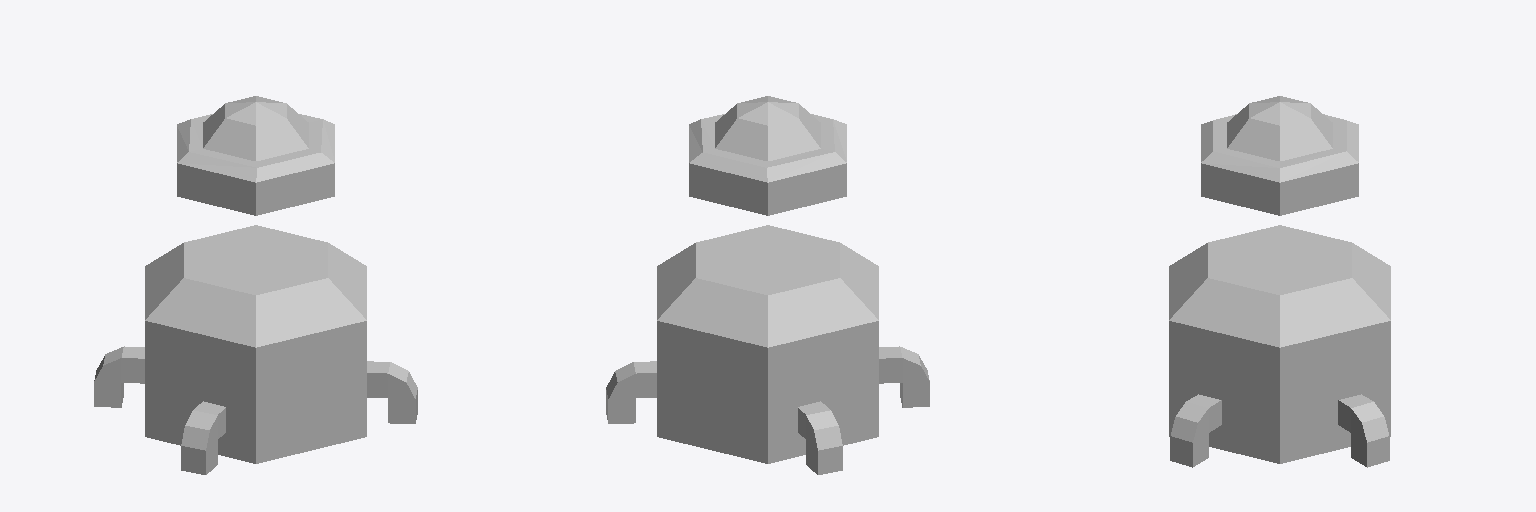
File: porygon_machine.obj
3 renders of one model, left to right at view 1: azimuth 30°, elevation 25°; view 2: azimuth 150°, elevation 25°; view 3: azimuth 270°, elevation 25°, orthographic.
Visible parts, largest first — view 1: Professor_Rowan's_Machine.001; view 2: Professor_Rowan's_Machine.001; view 3: Professor_Rowan's_Machine.001.
Part boxes in pixels (bbox=[...]): Professor_Rowan's_Machine.001: bbox=[94, 96, 417, 474]; Professor_Rowan's_Machine.001: bbox=[606, 96, 929, 474]; Professor_Rowan's_Machine.001: bbox=[1169, 96, 1390, 467].
Bounding box in the file's own units: 250 × 311 × 204.